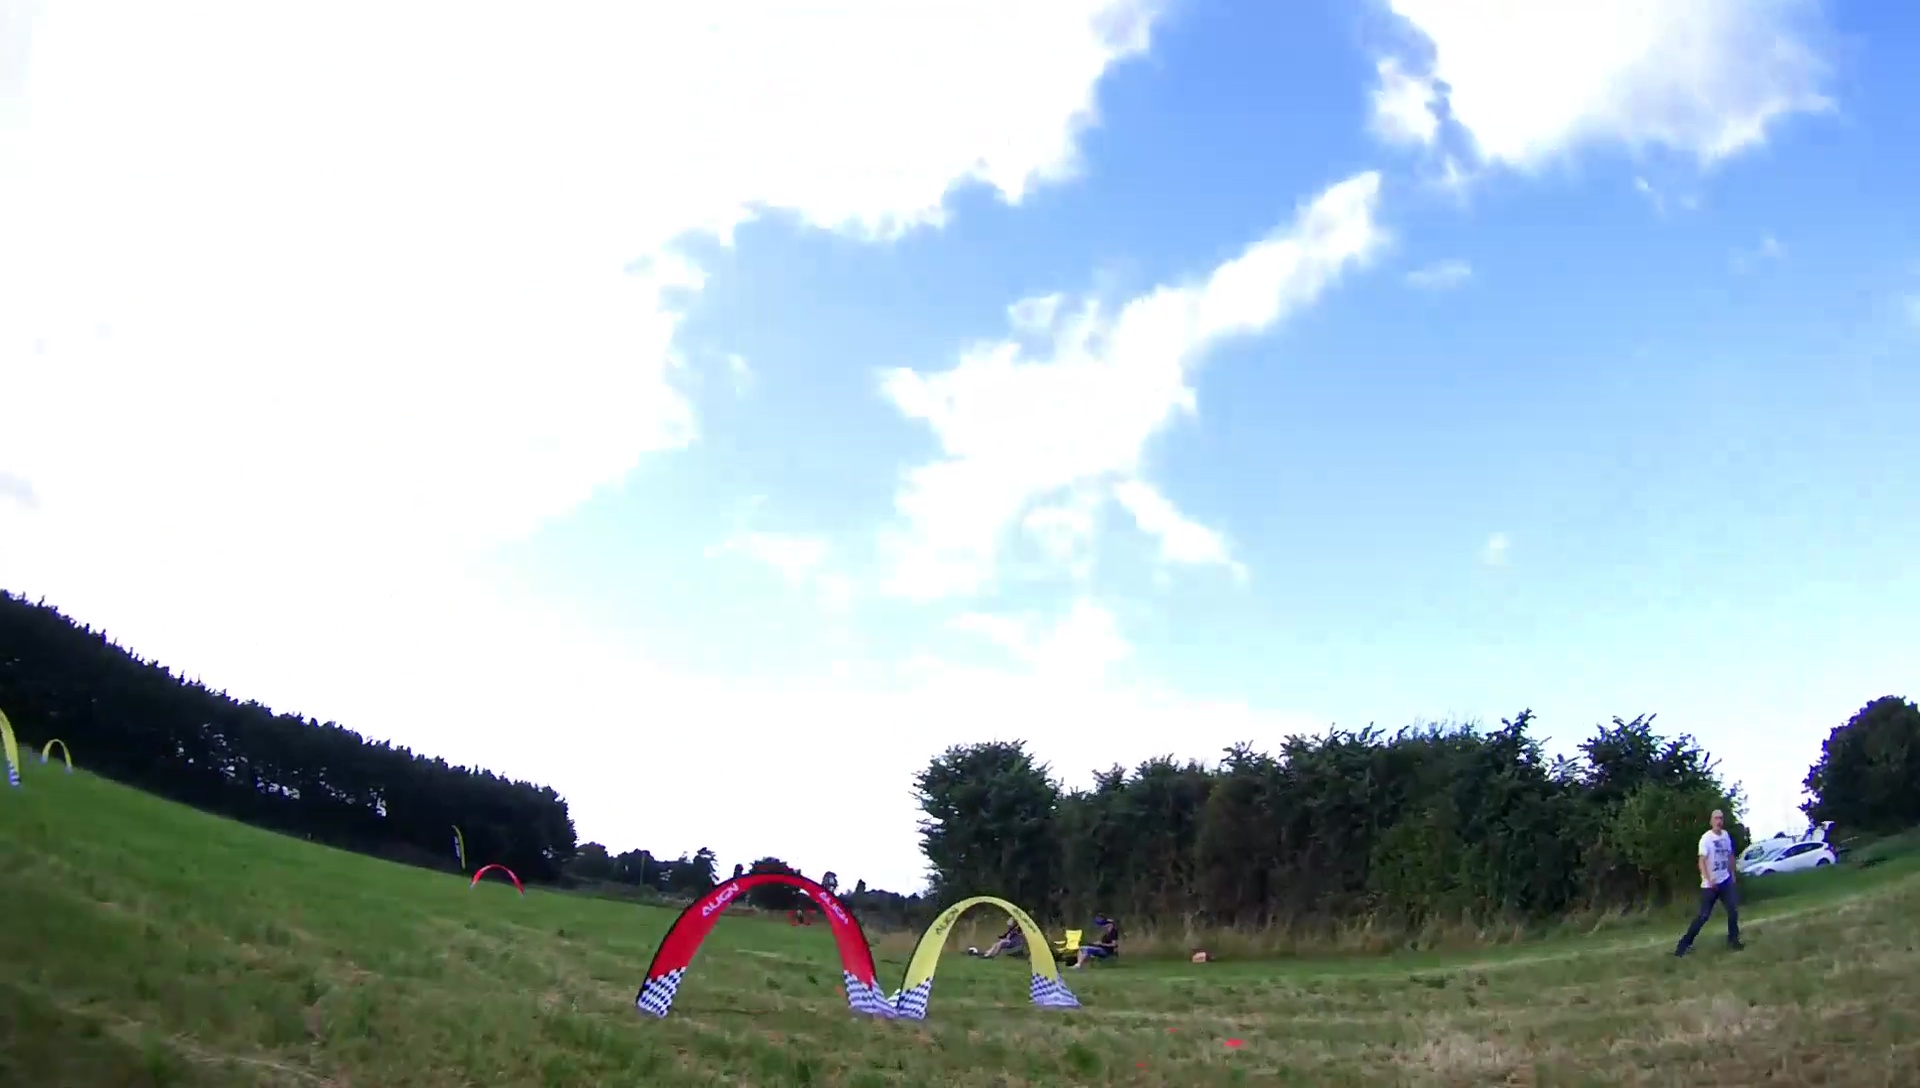gate: (636, 872, 894, 1019), (893, 892, 1077, 1019), (467, 864, 529, 895), (41, 736, 76, 771)
